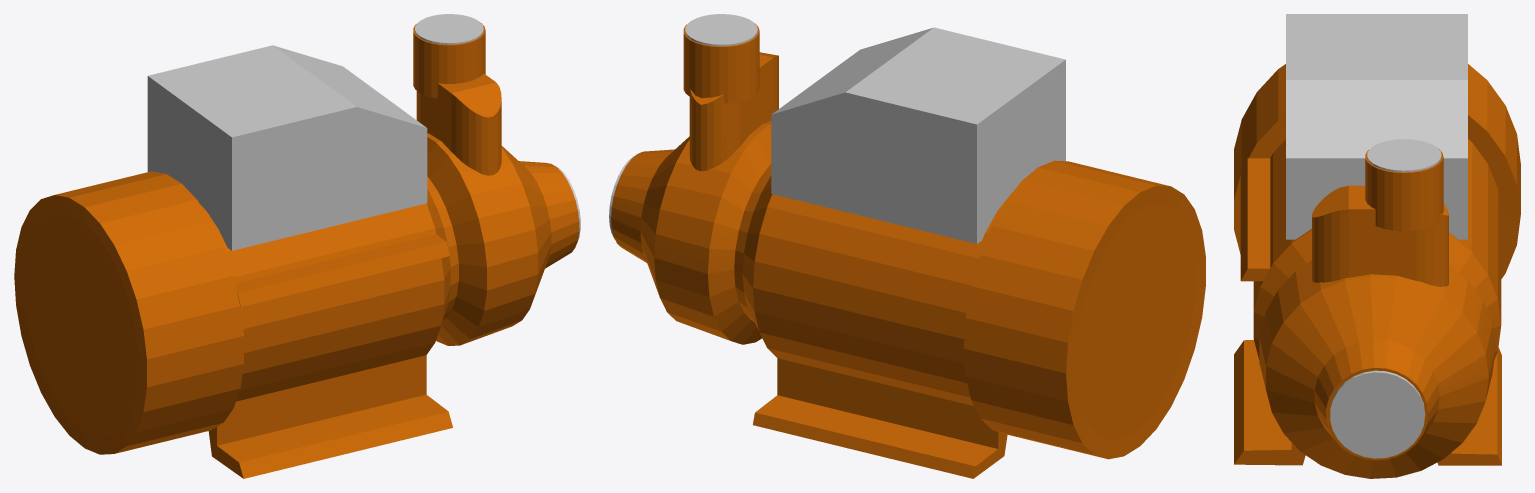
Rendered from насос.fbx.
The picture shows the model from 3 angles, left to right: view 1: azimuth 30°, elevation 25°; view 2: azimuth 150°, elevation 25°; view 3: azimuth 270°, elevation 25°; orthographic projection. The views are drawn at different scales.
Visible parts, largest first — view 1: Cylinder.024, Cube.013, Cylinder.033, Cylinder.025, Cylinder.034; view 2: Cylinder.024, Cube.013, Cylinder.033, Cylinder.025, Cylinder.034; view 3: Cylinder.024, Cube.013, Cylinder.033, Cylinder.035, Cylinder.025, Cylinder.034.
Boxes of the visible parts, left/top/right/bottom form: Cylinder.024: left=14, top=133, right=579, bottom=478; Cube.013: left=147, top=45, right=427, bottom=250; Cylinder.033: left=416, top=73, right=501, bottom=175; Cylinder.025: left=413, top=23, right=485, bottom=98; Cylinder.034: left=415, top=14, right=483, bottom=44; Cylinder.024: left=611, top=120, right=1205, bottom=478; Cube.013: left=771, top=27, right=1065, bottom=243; Cylinder.033: left=689, top=52, right=778, bottom=171; Cylinder.025: left=683, top=23, right=759, bottom=103; Cylinder.034: left=685, top=14, right=757, bottom=46; Cylinder.024: left=1234, top=64, right=1520, bottom=478; Cube.013: left=1286, top=14, right=1467, bottom=239; Cylinder.033: left=1312, top=185, right=1448, bottom=286; Cylinder.035: left=1330, top=370, right=1425, bottom=458; Cylinder.025: left=1365, top=149, right=1443, bottom=231; Cylinder.034: left=1367, top=139, right=1441, bottom=172.
Bounding box in the file's own units: 229 × 149 × 110.
